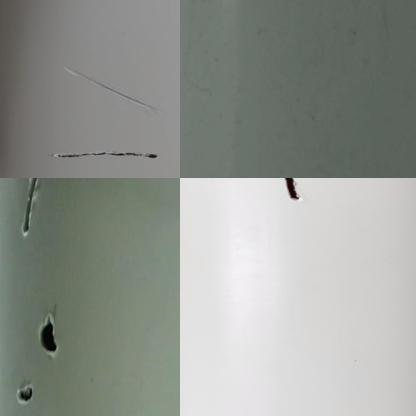fengxi: (50, 147, 162, 165), (20, 178, 44, 241), (281, 174, 308, 207)
kongdong: (35, 311, 64, 360), (11, 381, 47, 408)
sunshang: (59, 62, 159, 116)
